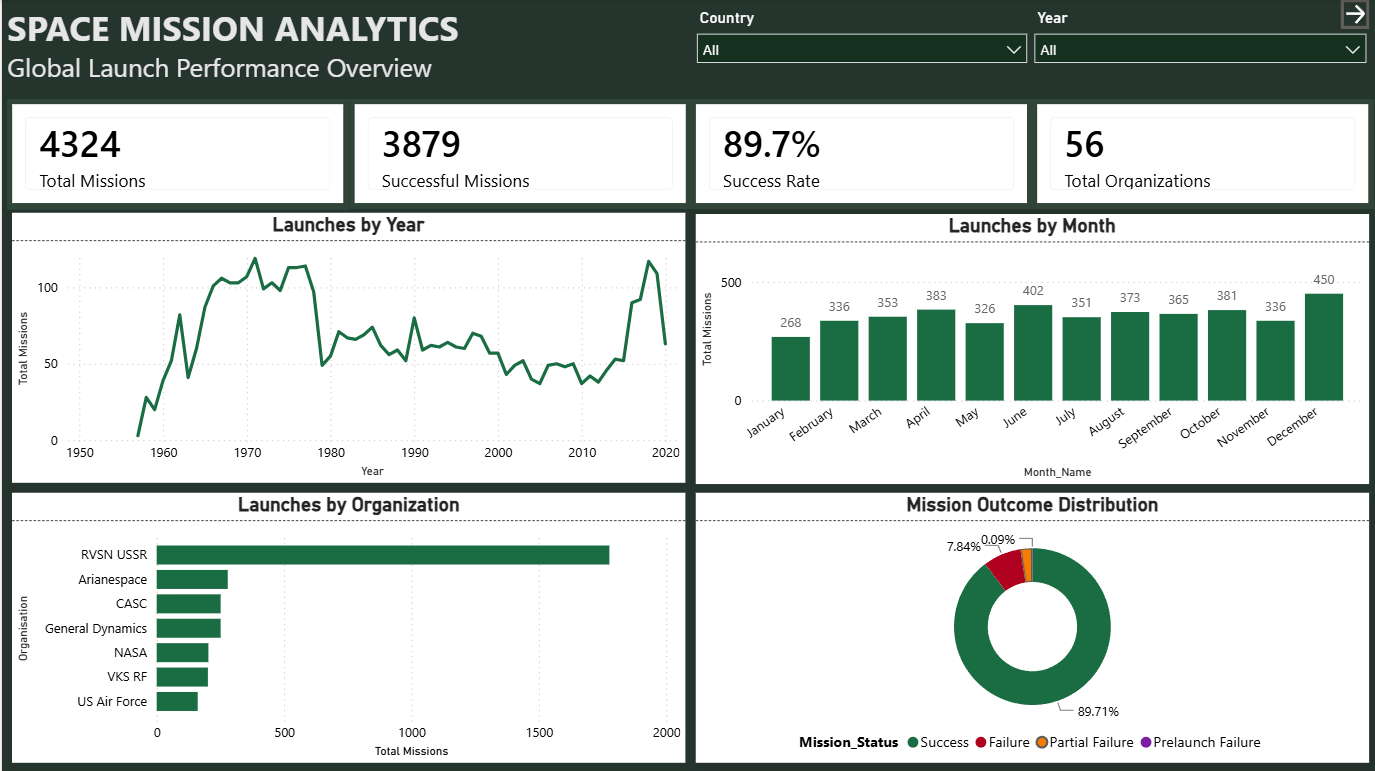

This screenshot's page, from the dashboard's own definition file:
{"tool":"powerbi","page":{"name":"Mission Overview","canvas":[1280,720],"ordinal":0},"visuals":[{"type":"cardVisual","fields":{"Data":["mission_launches.Success Rate %"]},"box":[641,93,318,102.3],"z":0},{"type":"cardVisual","fields":{"Data":["mission_launches.Successful Missions"]},"box":[323,93,318,102.3],"z":1000},{"type":"cardVisual","fields":{"Data":["mission_launches.Total Missions"]},"box":[5,93,318,102.9],"z":2000},{"type":"cardVisual","fields":{"Data":["mission_launches.Total Organizations"]},"box":[958,93,318,102.3],"z":3000},{"type":"textbox","box":[0,0,687,98.3],"z":4000},{"type":"slicer","fields":{"Values":["DateTable.Year"]},"box":[950,3.5,329.1,97.7],"z":5000},{"type":"slicer","fields":{"Values":["mission_launches.Country"]},"box":[636,3.5,327.9,97.7],"z":6000},{"type":"lineChart","title":"Launches by Year","fields":{"Category":["DateTable.Year"],"Y":["mission_launches.Total Missions"]},"box":[9.3,198.8,626,251.2],"z":7000},{"type":"donutChart","title":"Mission Outcome Distribution","fields":{"Category":["mission_launches.Mission_Status"],"Y":["mission_launches.Total Missions"]},"box":[645.4,459.3,626.7,251.2],"z":8000},{"type":"barChart","title":"Launches by Organization","fields":{"Category":["mission_launches.Organisation"],"Y":["mission_launches.Total Missions"]},"box":[9.3,459.3,626.7,251.2],"z":9000},{"type":"columnChart","title":"Launches by Month","fields":{"Category":["DateTable.Month_Name"],"Y":["mission_launches.Total Missions"]},"box":[645,200,626,251.2],"z":10000},{"type":"actionButton","box":[1245.4,0,26.7,27.9],"z":11000}]}

Visuals, with their boxes in screenshot pixels (x1, y1, x2, y2), scaled from the page's 1280x720 canvas onto the 1375x771 screenshot:
cardVisual - mission_launches.Success Rate %: 689:100:1030:209
cardVisual - mission_launches.Successful Missions: 347:100:689:209
cardVisual - mission_launches.Total Missions: 5:100:347:210
cardVisual - mission_launches.Total Organizations: 1029:100:1371:209
textbox: 0:0:738:105
slicer - DateTable.Year: 1021:4:1374:108
slicer - mission_launches.Country: 683:4:1035:108
"Launches by Year" lineChart: 10:213:682:482
"Mission Outcome Distribution" donutChart: 693:492:1367:761
"Launches by Organization" barChart: 10:492:683:761
"Launches by Month" columnChart: 693:214:1365:483
actionButton: 1338:0:1367:30
